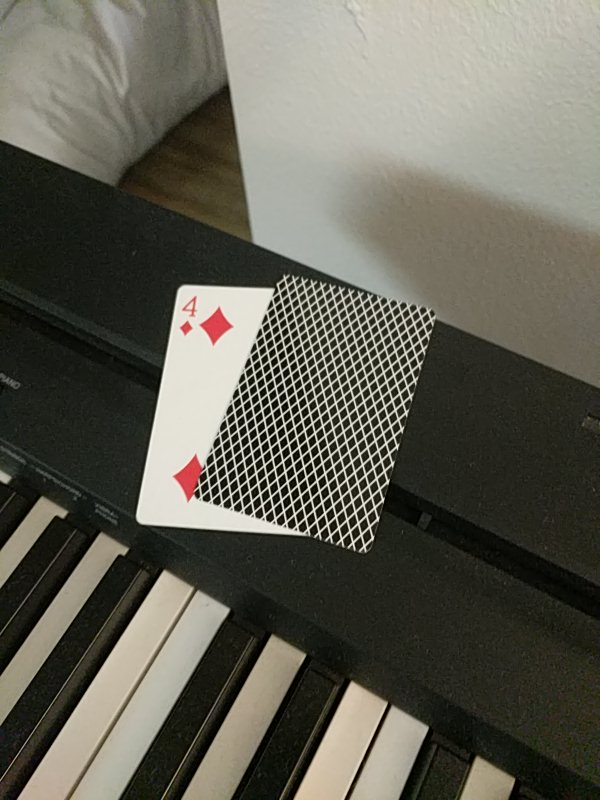Diamonds: (134, 284, 308, 535)
